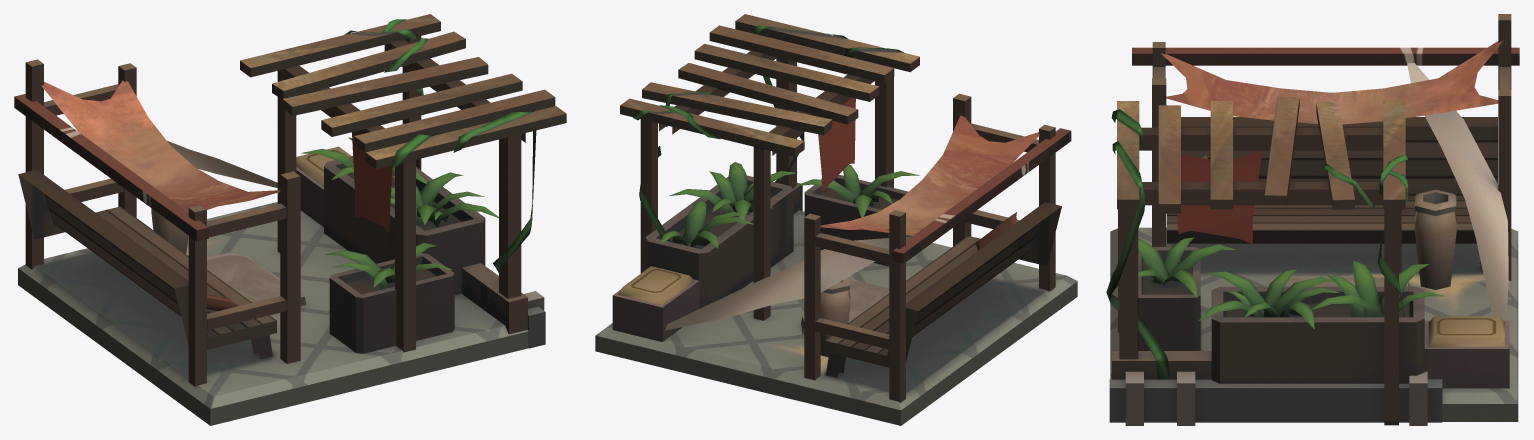
The model's file is trap_464_xbsightc.fbx.
The picture shows the model from 3 angles, left to right: view 1: azimuth 30°, elevation 25°; view 2: azimuth 150°, elevation 25°; view 3: azimuth 270°, elevation 25°; orthographic projection. The views are drawn at different scales.
Visible parts, largest first — view 1: trap_464_xbsightc; view 2: trap_464_xbsightc; view 3: trap_464_xbsightc.
Boxes of the visible parts, x1,y1,x2,y2 form: trap_464_xbsightc: (14,14,566,425); trap_464_xbsightc: (595,14,1077,425); trap_464_xbsightc: (1106,14,1519,425).
Bounding box in the file's own units: 1.13 × 0.652 × 1.01.
Materials: 1 (1 with a texture image).
